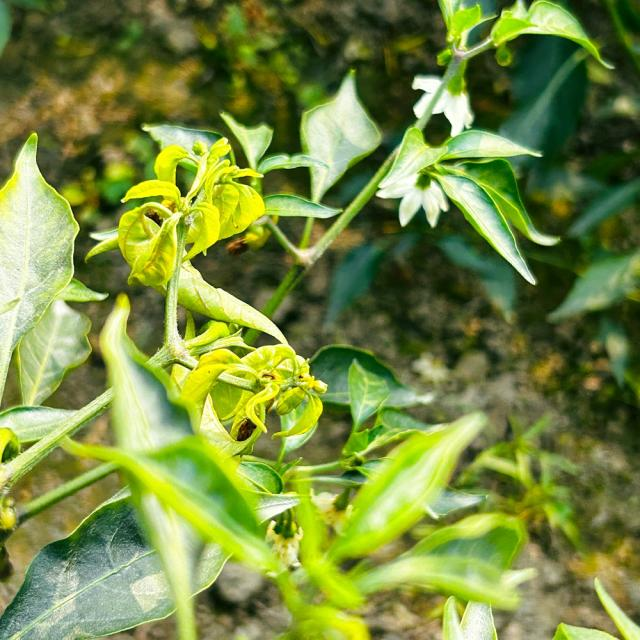Chilli_Leaf_Curl: (1, 1, 626, 638), (0, 486, 230, 638), (374, 124, 561, 286), (326, 410, 488, 563), (115, 134, 266, 291), (0, 130, 82, 407), (178, 342, 327, 457), (298, 67, 382, 204), (488, 0, 614, 70)
